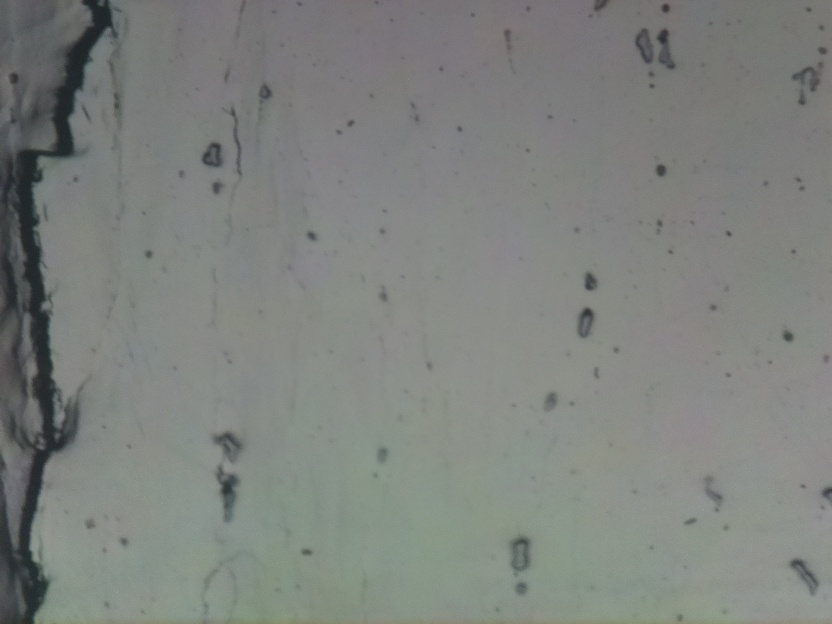crack: (0, 0, 117, 622)
